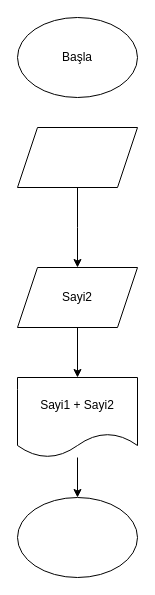
This 155x595 diagram has some shape labels left out. Here are the shapes that lost their labels. From the top down, the centre of each, then its label:
[77,157]: Sayi1
[77,537]: Son
